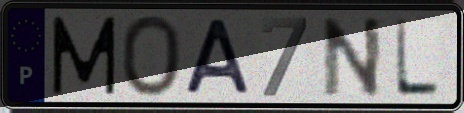7: (259, 15, 311, 98)
A: (182, 17, 254, 96)
L: (392, 15, 443, 99)
M: (49, 14, 119, 98)
N: (319, 14, 385, 100)
O: (118, 13, 184, 100)
